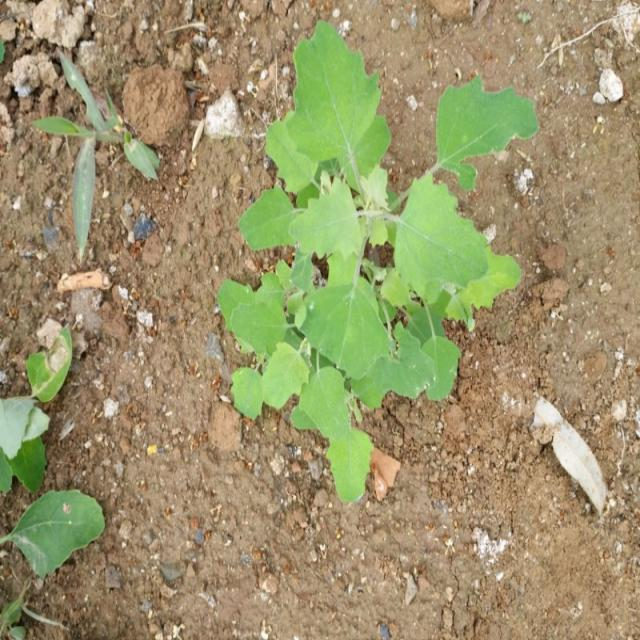ca: (217, 19, 524, 504)
